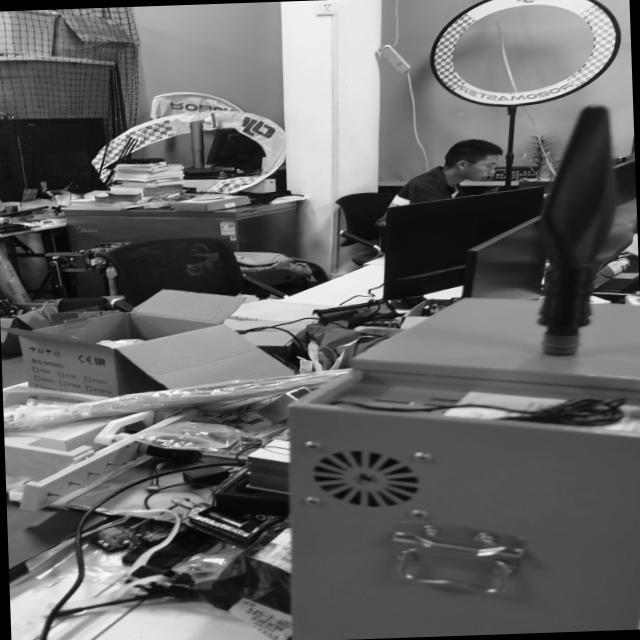base: (539, 331, 581, 357)
